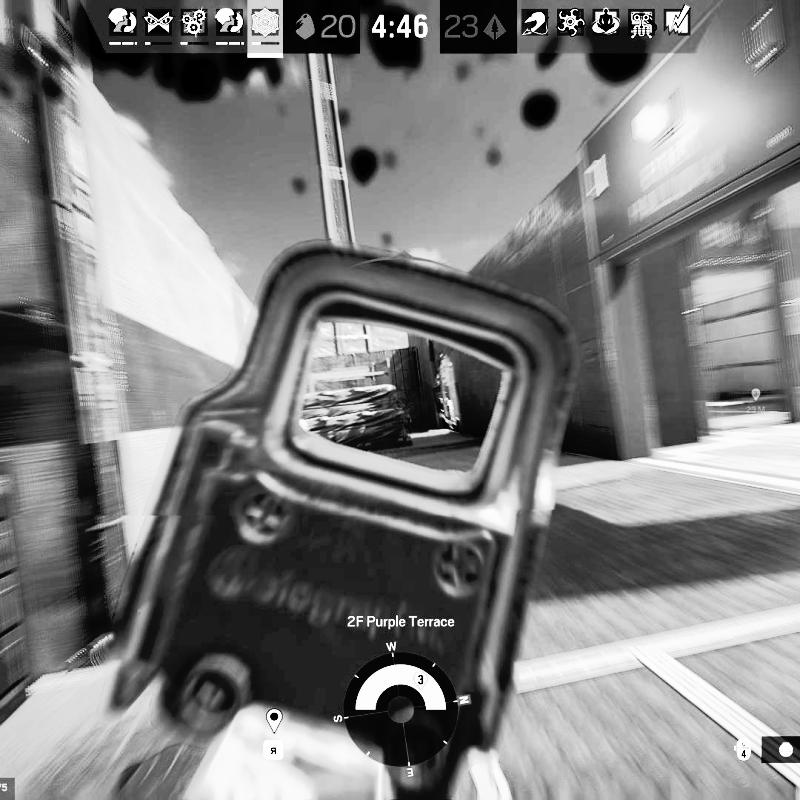Character: (398, 390, 414, 432)
